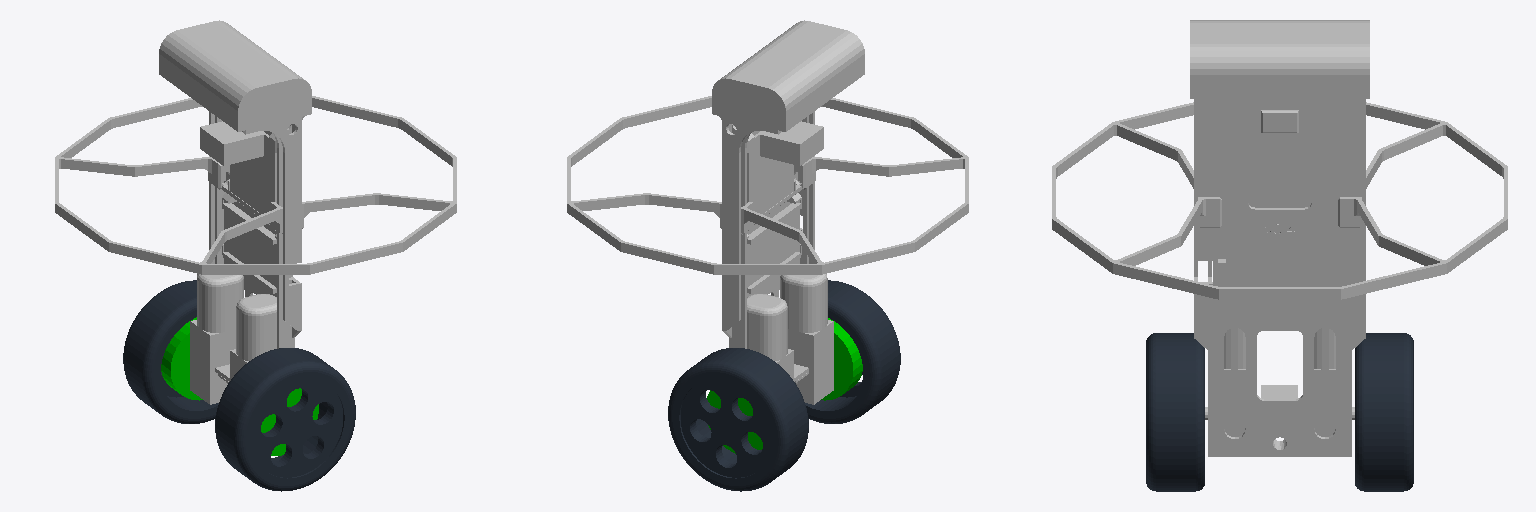
The robot description file, URDF, robot "balancio":
<?xml version="1.0" ?>
<robot name="balancio" xmlns:xacro="http://www.ros.org/wiki/xacro">

  <material name="black">
    <color rgba="0.0 0.0 0.0 0.8"/>
  </material>
  <material name="blue">
    <color rgba="0.203125 0.23828125 0.28515625 0.8"/>
  </material>
  <material name="green">
    <color rgba="0.0 0.8 0.0 0.8"/>
  </material>
  <material name="grey">
    <color rgba="0.8 0.8 0.8 1.0"/>
  </material>
  <material name="orange">
    <color rgba="1.0 0.423529411765 0.0392156862745 1.0"/>
  </material>
  <material name="brown">
    <color rgba="0.870588235294 0.811764705882 0.764705882353 1.0"/>
  </material>
  <material name="red">
    <color rgba="0.80078125 0.12890625 0.1328125 1.0"/>
  </material>
  <material name="white">
    <color rgba="1.0 1.0 1.0 1.0"/>
  </material>


 <!-- Base -->
	<!-- <link name="dummy_link"/>

  <joint name="base_joint" type="fixed">
    <origin rpy="0 0 0" xyz="0 0 0"/>
		<child link="link_chassis"/>
    <parent link="dummy_link"/>
  </joint> -->

<!-- Unidades: Tiempo: 10*Segundo  -  Distancia: Decimetro  - Masa: 40*Kg -->

  <link name="link_chassis">
    <!-- pose and inertial -->
    <pose>0 0 0 0 0 0</pose>
    <inertial>
      <mass value="10.36"/>
      <origin rpy="0 0 0" xyz="1.5e-2 0 0.642"/>
      <inertia ixx="4.688" ixy="9.404e-5" ixz="1.335e-1" iyy="4.364" iyz="-1.6e-3" izz="9.11e-1"/>
    </inertial>
    <!-- body -->
    <collision name="collision_chassis">
      <origin rpy="0 0 0" xyz="0 0 0.2"/>
      <geometry>
        <box size="0.1 0.6 1.5"/>
        <!-- <mesh filename="package://simulation/stl/Body.stl" scale="10 10 10"/> -->
      </geometry>
    </collision>
    <visual>
      <origin rpy="0 0 0" xyz="0 0 0"/>
      <geometry>
        <!-- <box size="0.1 0.6 1.5"/> -->
        <mesh filename="package://simulation/stl/Body.stl" scale="10 10 10"/>
      </geometry>
      <material name="grey"/>
    </visual>
  </link>


<!-- IMU -->

<joint name="joint_IMU" type="fixed">
  <origin rpy="0 0 0" xyz="0 0 -0.328"/>
  <child link="link_IMU"/>
  <parent link="link_chassis"/>
</joint>

<link name="link_IMU">
  <!-- pose and inertial -->
  <pose>0 0 0 0 0 0</pose>
  <inertial>
    <mass value="0.2"/>
    <origin rpy="0 0 0" xyz="0 0 0"/>
    <inertia ixx="0.0004" ixy="0" ixz="0" iyy="0.0006" iyz="0" izz="0.001"/>
  </inertial>
  <!-- body -->
  <collision name="collision_chassis">
    <origin rpy="0 0 0" xyz="0 0 0"/>
    <geometry>
      <box size="0.21 0.16 0.02"/>
    </geometry>
  </collision>
</link>


<!--Gearbox and Wheels -->
<!-- Left -->

  <joint name="joint_left_gb" type="continuous">
    <origin rpy="0 0 0" xyz="0 0.316 -0.422"/>
    <child link="link_left_gb"/>
    <parent link="link_chassis"/>
    <axis rpy="0 0 0" xyz="0 1 0"/>
    <!-- <limit effort="0.8" velocity="30"/> -->
    <dynamics damping="0" friction="0"/>  <!-- Friction implemented in pybullet-->
  </joint>

  <link name="link_left_gb">
    <inertial>
      <mass value="0.56"/>
      <origin rpy="0 0 0" xyz="0 0 0"/>
      <inertia ixx="0.02544" ixy="0" ixz="0" iyy="0.04484" iyz="0" izz="0.02544"/>
    </inertial>
    <collision name="link_left_gb_collision">
      <origin rpy="0 1.5707 1.5707" xyz="0 0.05 0"/>
      <geometry>
        <cylinder length="0.1" radius="0.2"/>
      </geometry>
    </collision>
    <visual name="link_left_gb_visual">
      <origin rpy="0 1.5707 1.5707" xyz="0 0.05 0"/>
      <geometry>
        <cylinder length="0.1" radius="0.2"/>
      </geometry>
      <material name="green"/>
    </visual>
  </link>

  <joint name="joint_left_wheel" type="revolute">
    <limit lower="-0.03055" upper="0.03055" />
    <origin rpy="0 0 0" xyz="0 0 0"/>
    <child link="link_left_wheel"/>
    <parent link="link_left_gb"/>
    <axis rpy="0 0 0" xyz="0 1 0"/>
    <!-- <limit effort="0.8" velocity="30"/> -->
    <dynamics damping="0" friction="0"/>  <!-- Friction implemented in pybullet-->
  </joint>

  <link name="link_left_wheel">
    <inertial>
      <mass value="0.6"/>
      <origin rpy="0 0 0" xyz="0 0.142 0"/>
      <inertia ixx="0.02544" ixy="0" ixz="0" iyy="0.04484" iyz="0" izz="0.02544"/>
    </inertial>
    <collision name="link_left_wheel_collision">
      <origin rpy="0 1.5707 1.5707" xyz="0 0.125 0"/>
      <geometry>
        <cylinder length="0.25" radius="0.325"/>
        <!-- <mesh filename="package://simulation/stl/Wheel.stl" scale="10 10 10"/> -->
      </geometry>
    </collision>
    <visual name="link_left_wheel_visual">
      <origin rpy="3.14159 0 1.5707" xyz="0 0 0"/>
      <geometry>
        <!-- <cylinder length="0.005" radius="0.02"/> -->
        <mesh filename="package://simulation/stl/Wheel.stl" scale="10 10 10"/>
      </geometry>
      <material name="blue"/>
    </visual>
  </link>


<!-- Right -->

  <joint name="joint_right_gb" type="continuous">
    <origin rpy="0 0 0" xyz="0 -0.316 -0.422"/>
    <child link="link_right_gb"/>
    <parent link="link_chassis"/>
    <axis rpy="0 0 0" xyz="0 1 0"/>
    <!-- <limit effort="0.8" velocity="30"/> -->
    <dynamics damping="0" friction="0"/>  <!-- Friction implemented in pybullet-->
  </joint>

  <link name="link_right_gb">
    <inertial>
      <mass value="0.56"/>
      <origin rpy="0 0 0" xyz="0 0 0"/>
      <inertia ixx="0.02544" ixy="0" ixz="0" iyy="0.04484" iyz="0" izz="0.02544"/>
    </inertial>
    <collision name="link_right_gb_collision">
      <origin rpy="0 1.5707 1.5707" xyz="0 -0.05 0"/>
      <geometry>
        <cylinder length="0.1" radius="0.2"/>
      </geometry>
    </collision>
    <visual name="link_right_gb_visual">
      <origin rpy="0 1.5707 1.5707" xyz="0 -0.05 0"/>
      <geometry>
        <cylinder length="0.1" radius="0.2"/>
      </geometry>
      <material name="green"/>
    </visual>
  </link>

  <joint name="joint_right_wheel" type="revolute">
    <limit lower="-0.03055" upper="0.03055" />
    <origin rpy="0 0 0" xyz="0 0 0"/>
    <child link="link_right_wheel"/>
    <parent link="link_right_gb"/>
    <axis rpy="0 0 0" xyz="0 1 0"/>
		<!-- <limit effort="0.8" velocity="30"/> -->
    <dynamics damping="0" friction="0"/>  <!-- Friction implemented in pybullet-->
  </joint>

  <link name="link_right_wheel">
    <inertial>
      <mass value="0.6"/>
      <origin rpy="0 0 0" xyz="0 -0.142 0"/>
      <inertia ixx="0.02544" ixy="0" ixz="0" iyy="0.04484" iyz="0" izz="0.02544"/>
    </inertial>
    <collision name="link_right_wheel_collision">
      <origin rpy="0 1.5707 1.5707" xyz="0 -0.125 0"/>
      <geometry>
        <cylinder length="0.25" radius="0.325"/>
        <!-- <mesh filename="package://simulation/stl/Wheel.stl" scale="10 10 10"/> -->
      </geometry>
    </collision>
    <visual name="link_right_wheel_visual">
      <origin rpy="0 0 -1.5707" xyz="0 0 0"/>
      <geometry>
        <!-- <cylinder length="0.005" radius="0.02"/> -->
        <mesh filename="package://simulation/stl/Wheel.stl" scale="10 10 10"/>
      </geometry>
      <material name="blue"/>
    </visual>
  </link>

</robot>

--- Render facts (derived) ---
The picture shows the robot from 3 angles, left to right: view 1: azimuth 30°, elevation 25°; view 2: azimuth 150°, elevation 25°; view 3: azimuth 270°, elevation 25°; orthographic projection.
Model balancio with 6 links and 5 joints (2 revolute, 2 continuous, 1 fixed), rooted at link_chassis, posed all joints at 0.
Links seen in each view (by area): view 1: link_chassis, link_right_wheel, link_left_wheel, link_left_gb, link_right_gb; view 2: link_chassis, link_left_wheel, link_right_wheel, link_right_gb, link_left_gb; view 3: link_chassis, link_left_wheel, link_right_wheel.
Boxes of the visible links, x1,y1,x2,y2 form: link_chassis: (55,20,456,404); link_right_wheel: (215,348,355,491); link_left_wheel: (123,280,218,423); link_left_gb: (161,317,202,400); link_right_gb: (261,388,318,455); link_chassis: (567,20,968,404); link_left_wheel: (668,348,808,491); link_right_wheel: (805,280,900,423); link_right_gb: (821,318,862,400); link_left_gb: (707,390,762,453); link_chassis: (1052,20,1507,456); link_left_wheel: (1355,333,1413,491); link_right_wheel: (1146,333,1204,491).
Size in the robot's own frame: 1.93 by 1.93 by 2.09 metres.
Meshes: 2 distinct files referenced, 3 mesh visuals loaded (2 binary STL).